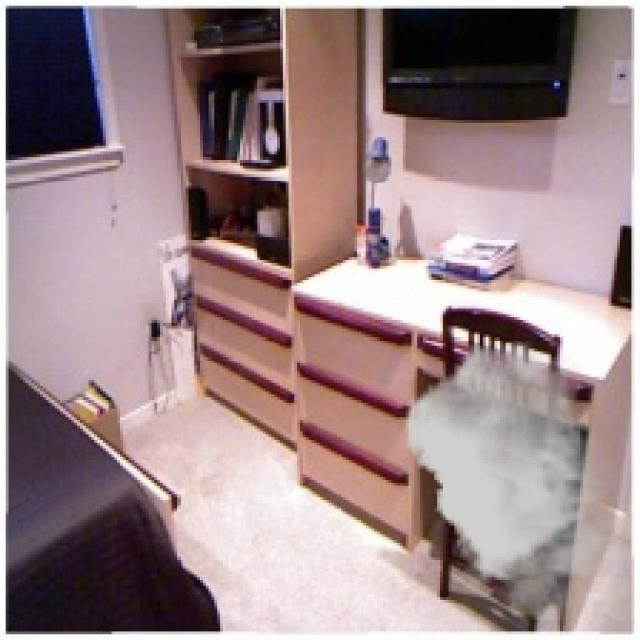Smoke: (406, 340, 618, 620)
